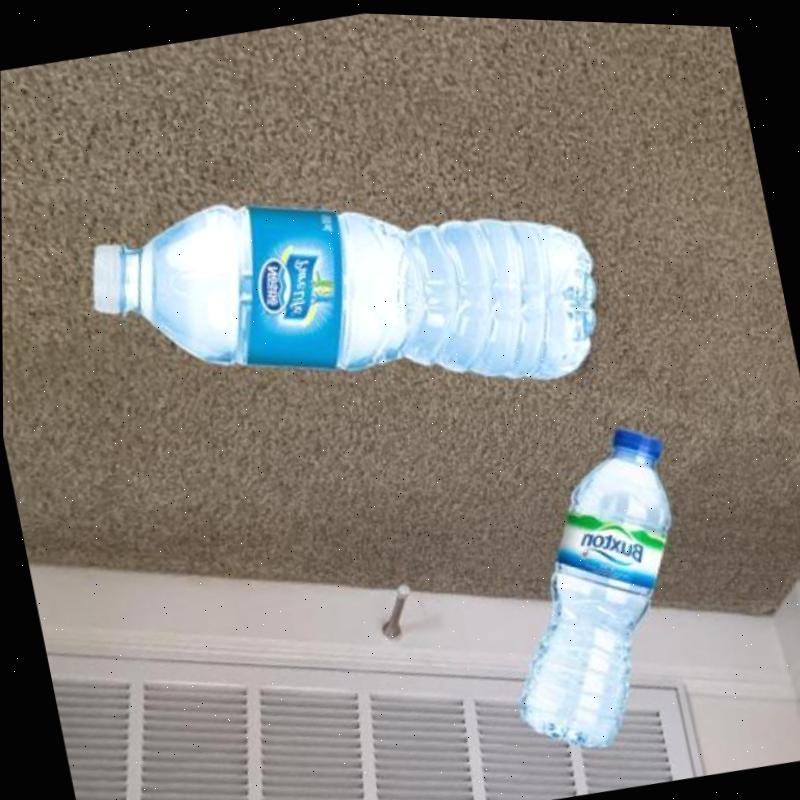botella: (76, 126, 616, 459), (460, 408, 718, 762)
